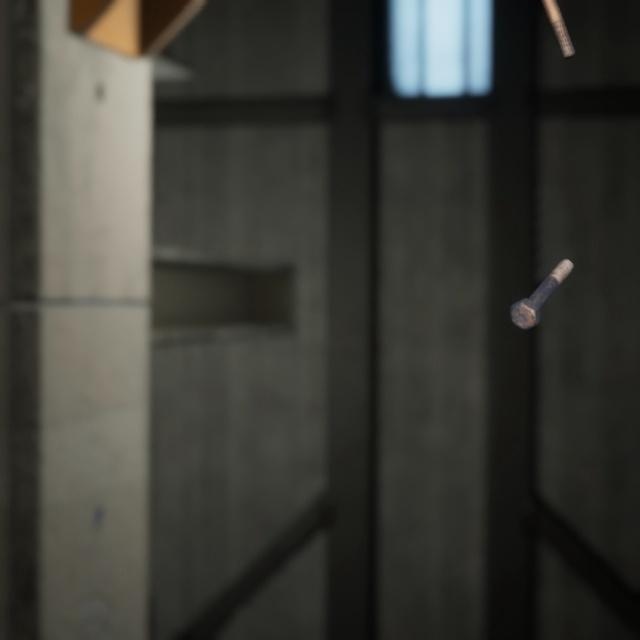bolt: (505, 237, 578, 317), (538, 0, 580, 56)
nut: (73, 613, 119, 640)
